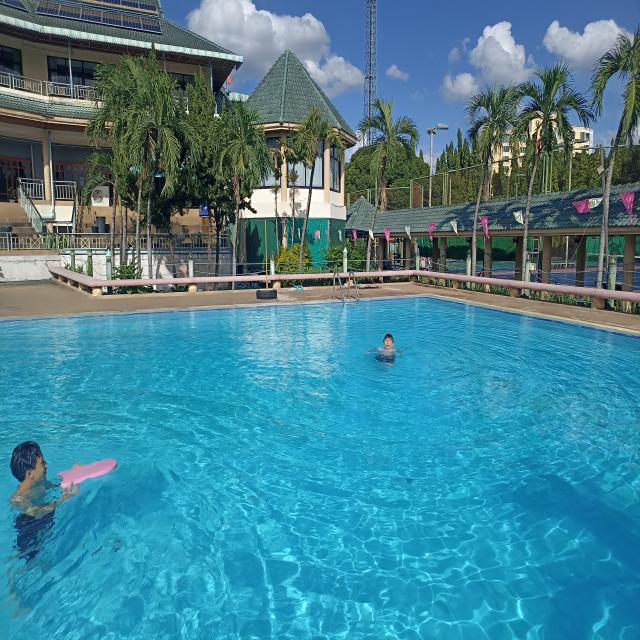Swimming: (6, 440, 79, 528), (366, 334, 404, 366)
